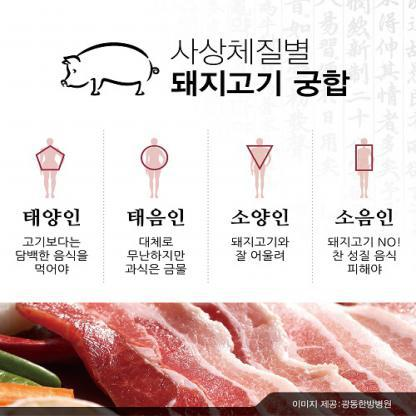pork: (18, 302, 415, 390)
